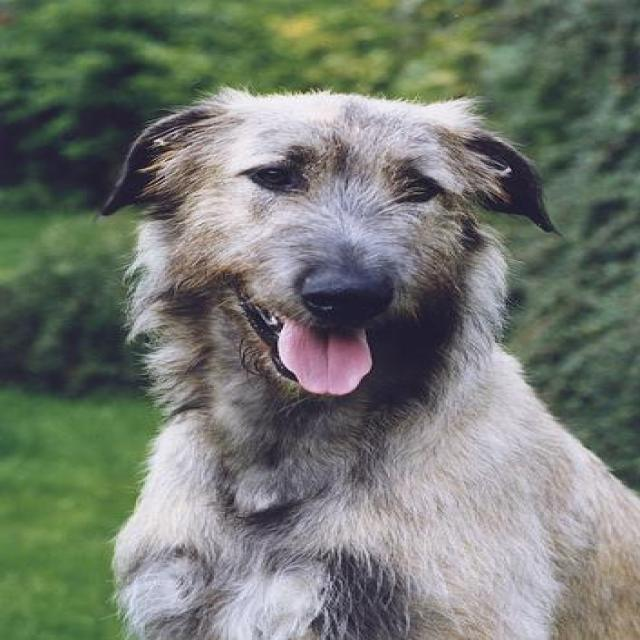irish_wolfhound: (84, 83, 636, 638)
